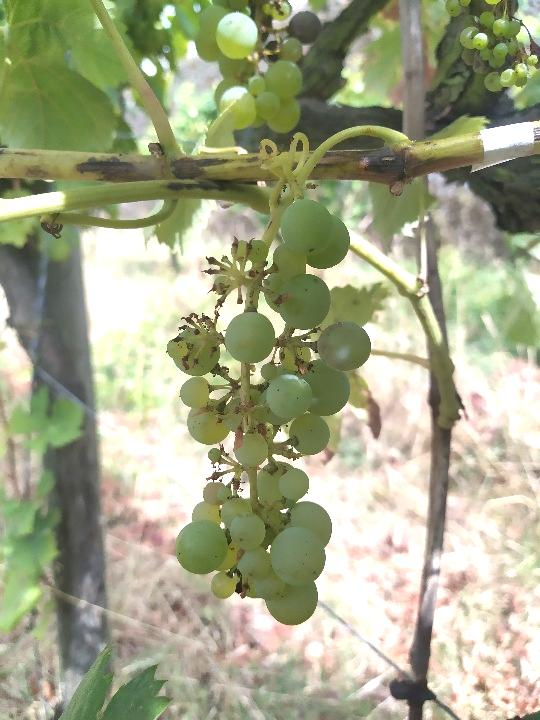grape: (164, 197, 374, 628)
